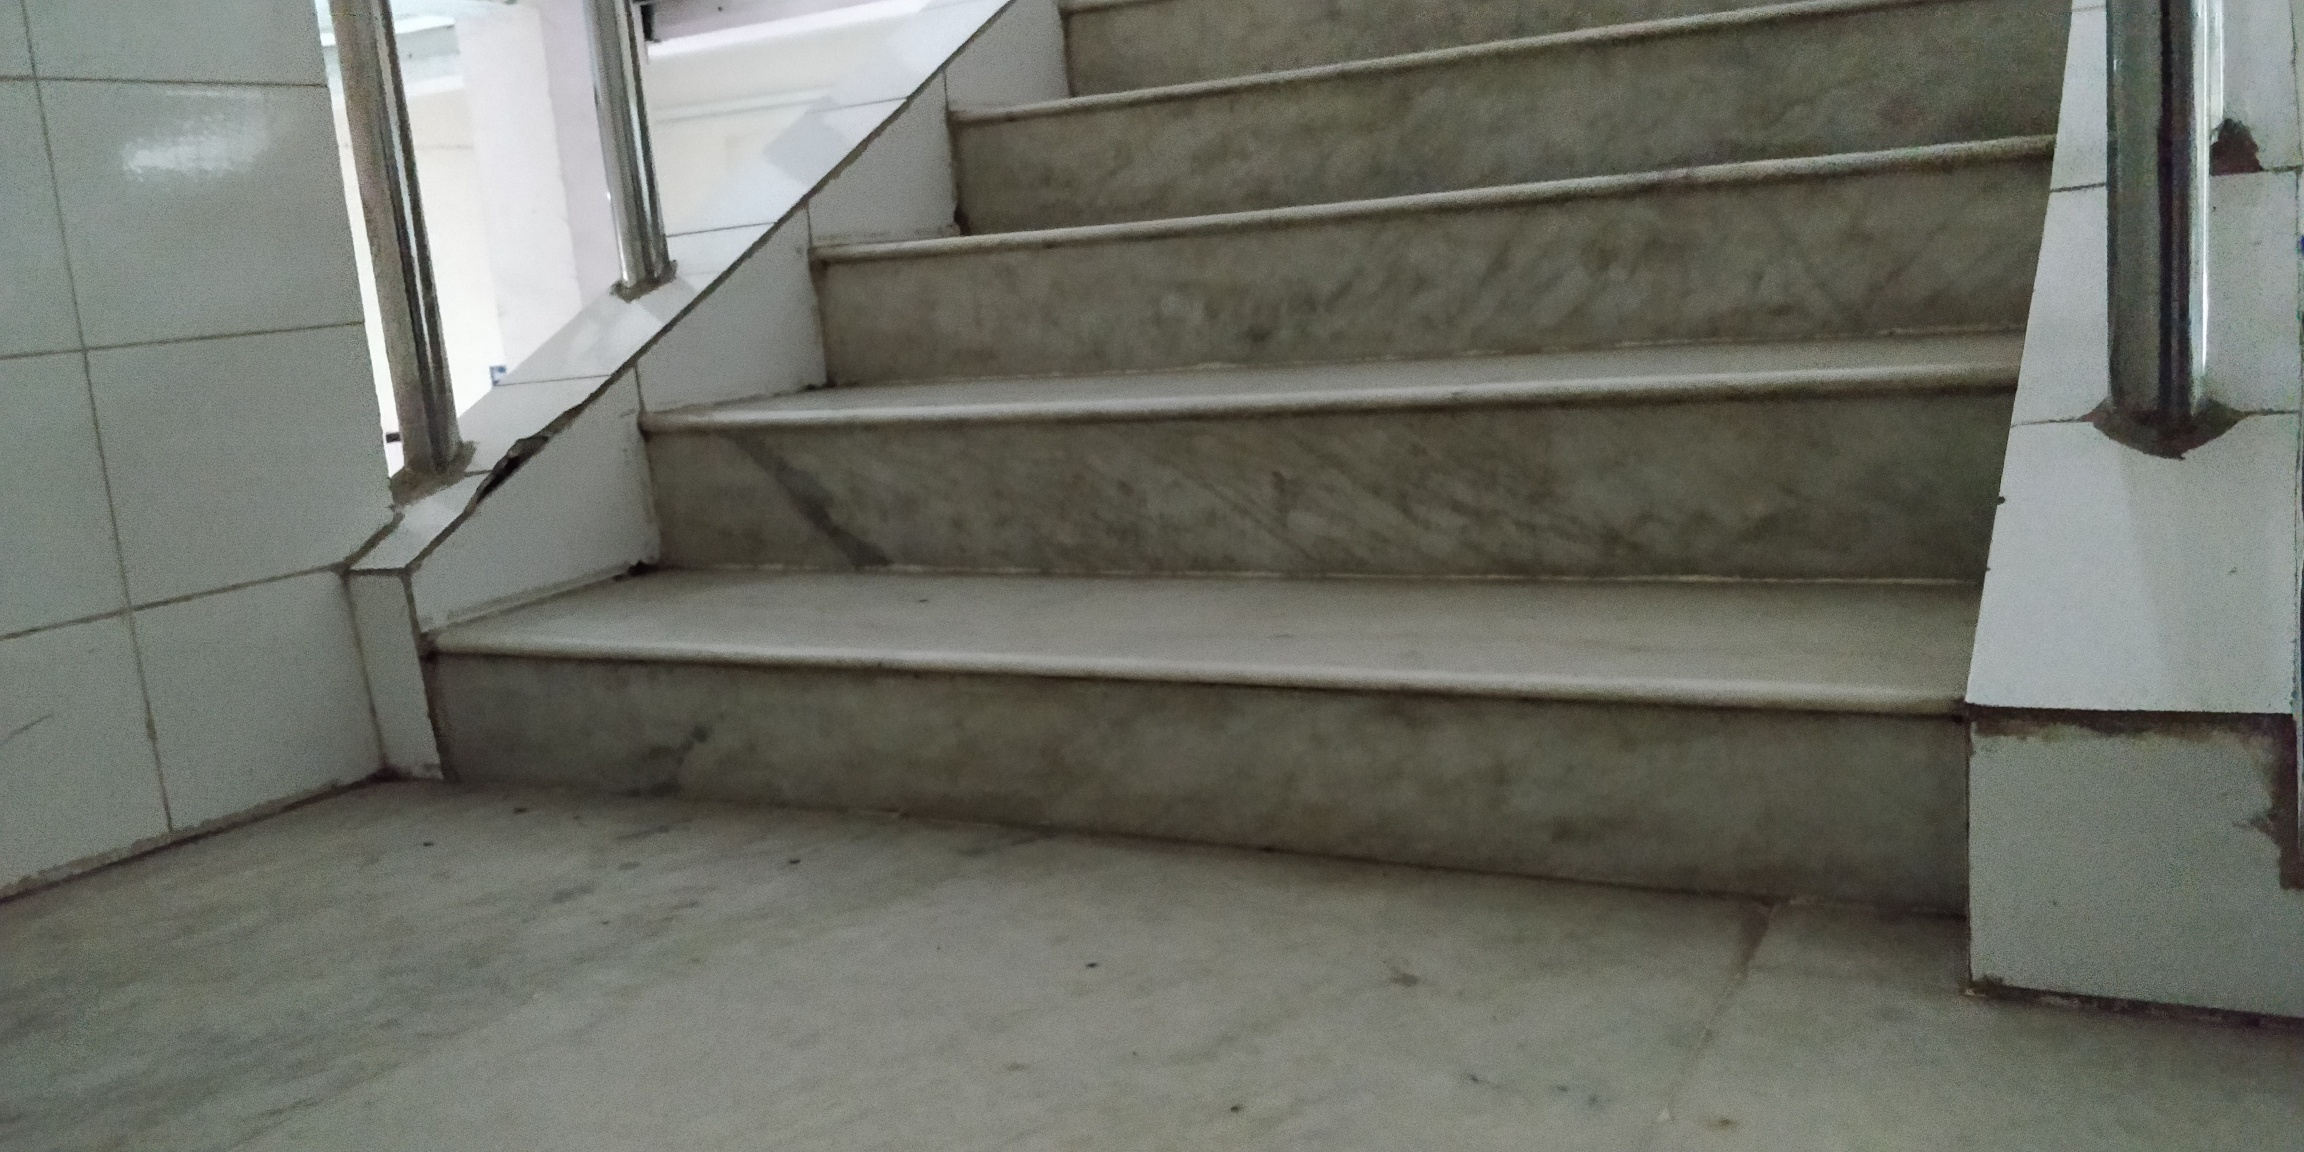stairs_up: (447, 6, 2134, 993)
